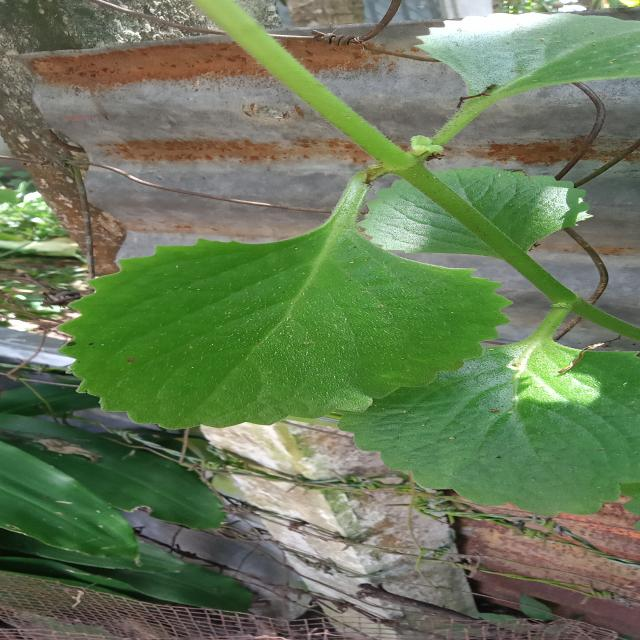Oregano: (41, 226, 496, 437), (346, 343, 640, 538), (360, 123, 585, 274), (380, 7, 640, 101)
